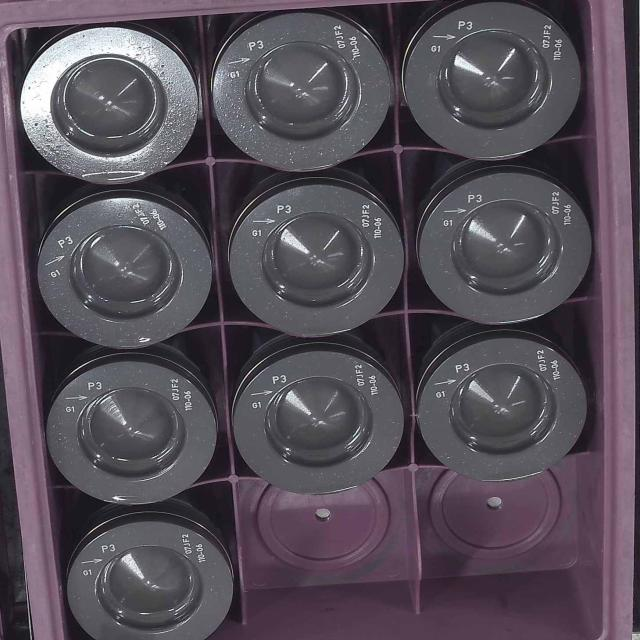P3: (405, 11, 587, 165), (231, 180, 405, 341), (421, 175, 597, 330), (36, 200, 216, 346), (410, 342, 590, 487), (25, 39, 197, 189), (212, 20, 389, 164), (51, 353, 220, 501), (238, 343, 400, 491), (58, 514, 239, 640)
